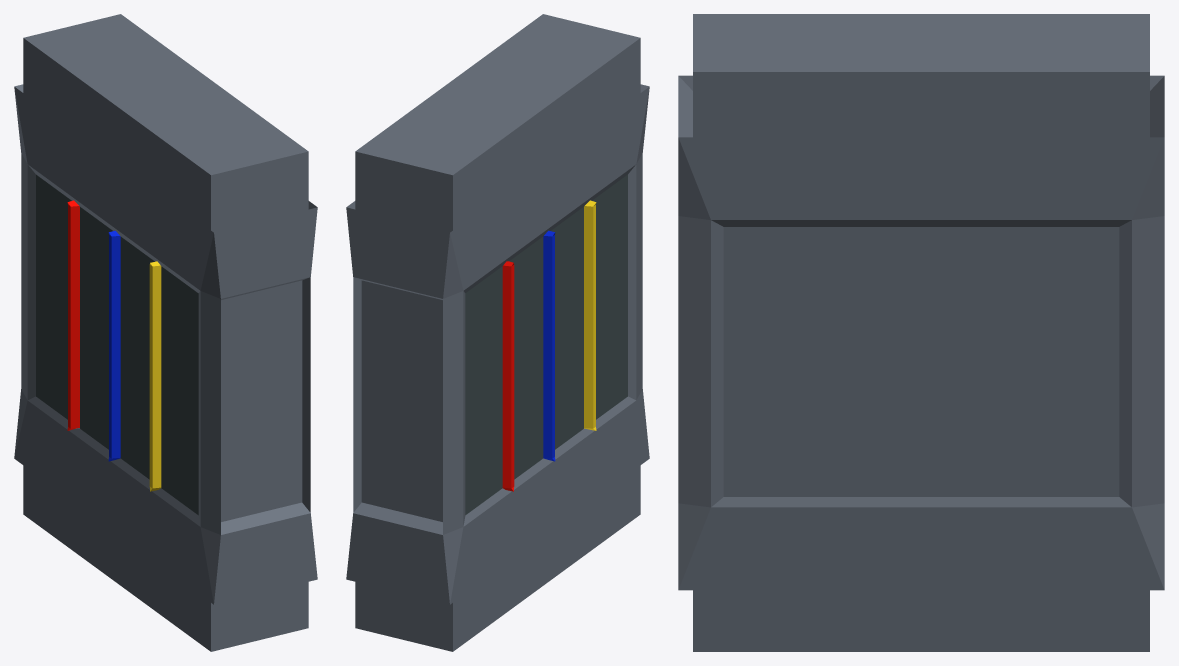
File: Electric Box.fbx
3 renders of one model, left to right at view 1: azimuth 30°, elevation 25°; view 2: azimuth 150°, elevation 25°; view 3: azimuth 270°, elevation 25°, orthographic. The views are drawn at different scales.
Visible parts, largest first — view 1: Electric Box; view 2: Electric Box; view 3: Electric Box.
Part boxes in pixels (<box>): Electric Box: <box>14,14,317,651</box>; Electric Box: <box>346,14,649,651</box>; Electric Box: <box>678,14,1164,651</box>.
Size of the model in its own units: 67.13 by 280 by 213.
